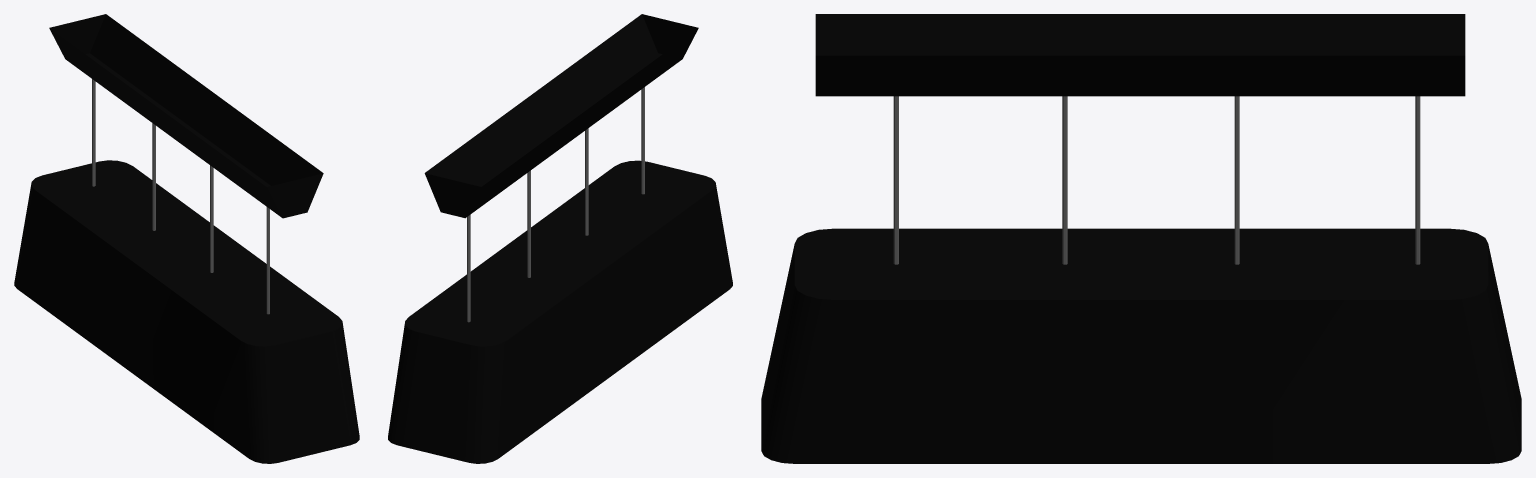
The model's file is Lamp.fbx.
3 renders of one model, left to right at view 1: azimuth 30°, elevation 25°; view 2: azimuth 150°, elevation 25°; view 3: azimuth 270°, elevation 25°, orthographic. The views are drawn at different scales.
Visible parts, largest first — view 1: Lamp; view 2: Lamp; view 3: Lamp.
Boxes of the visible parts, x1=… form: Lamp: x1=14, y1=14, x2=359, y2=463; Lamp: x1=388, y1=14, x2=732, y2=463; Lamp: x1=761, y1=14, x2=1521, y2=463.
Size of the model in its own units: 0.3279 by 0.7612 by 1.35.
